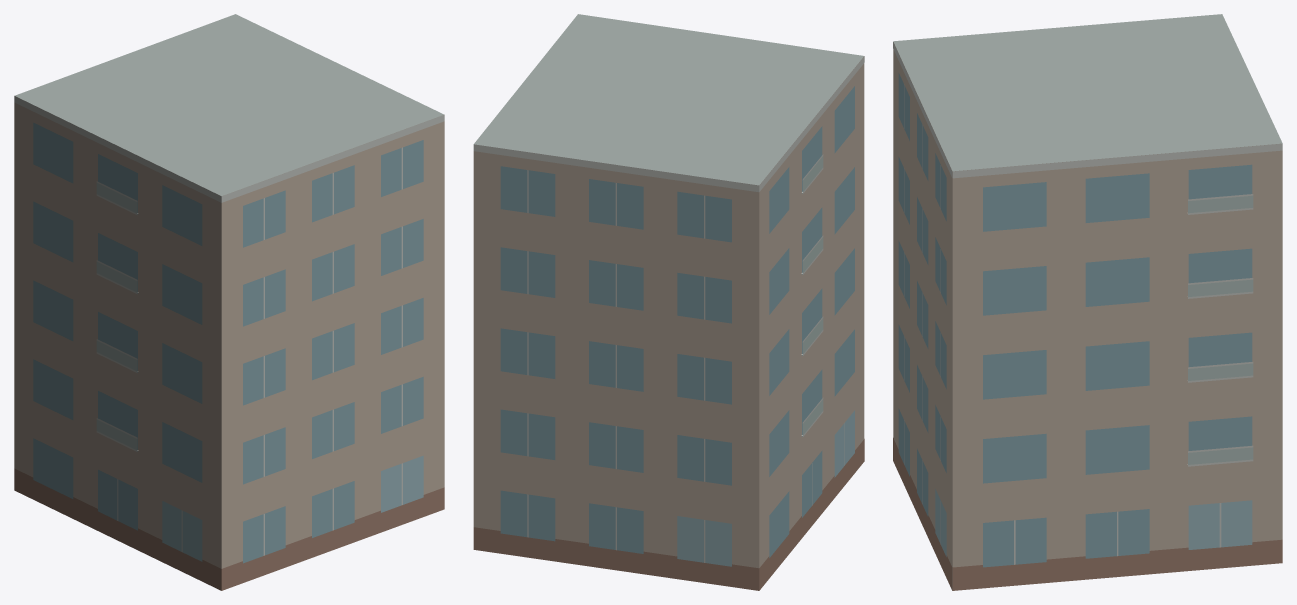
File: survey-upis-32876909.glb
The picture shows the model from 3 angles, left to right: view 1: azimuth 30°, elevation 25°; view 2: azimuth 150°, elevation 25°; view 3: azimuth 270°, elevation 25°; orthographic projection. The views are drawn at different scales.
Parts seen in each view (by area): view 1: survey-upis-32876909.tmp; view 2: survey-upis-32876909.tmp; view 3: survey-upis-32876909.tmp.
Part boxes in pixels (x1,y1,x2,y2): survey-upis-32876909.tmp: [14, 14, 444, 590]; survey-upis-32876909.tmp: [473, 14, 864, 590]; survey-upis-32876909.tmp: [893, 14, 1282, 590].
Size of the model in its own units: 11.67 by 14.5 by 12.21.
